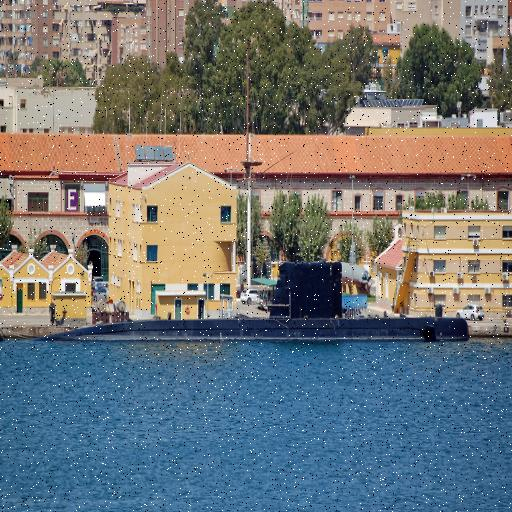submarine: (31, 232, 512, 350)
